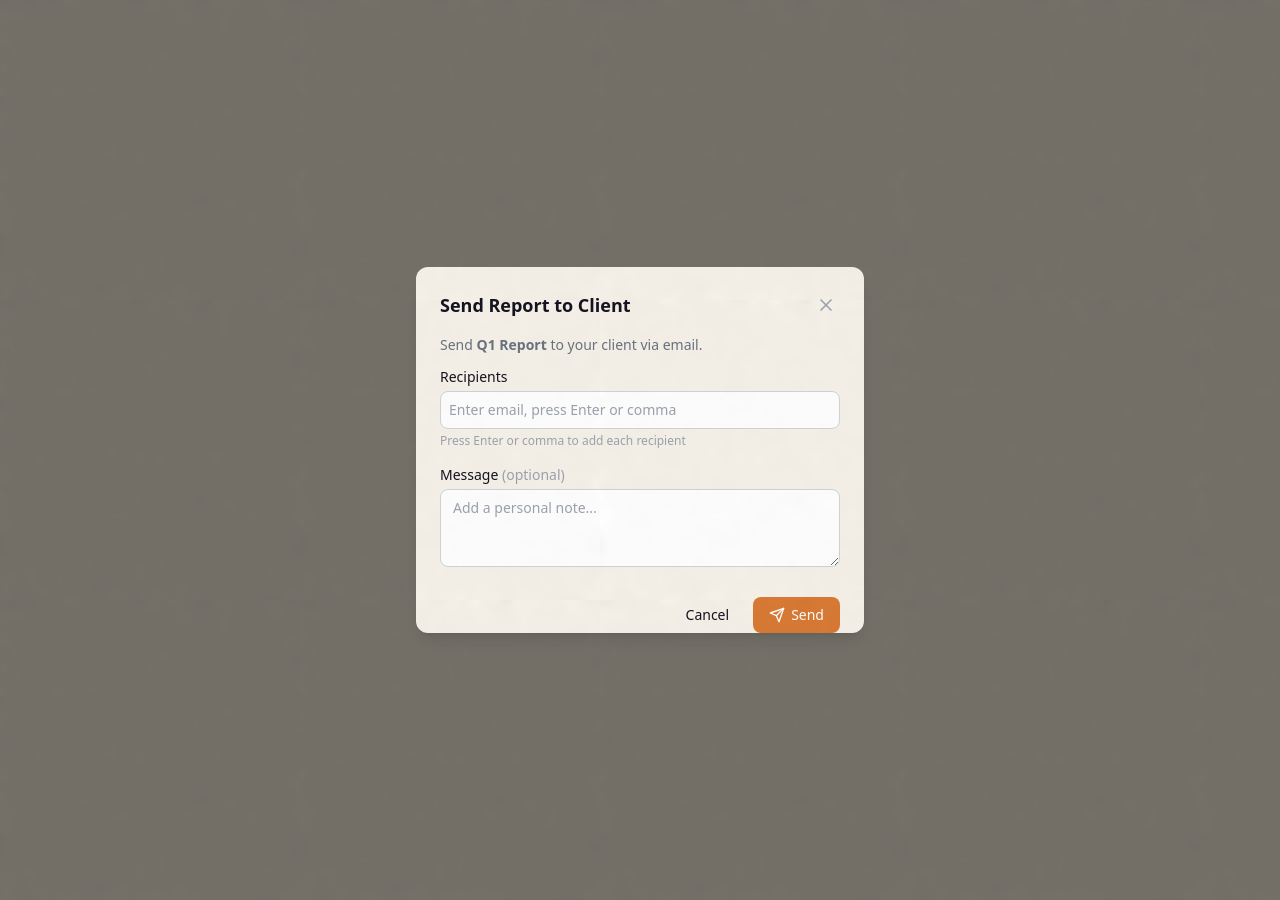
Test case: SendToClientModal cancel flow › clears entered state and closes when Cancel is clicked
Type "a@test.com" into the field with placeholder "Enter email, press Enter or comma". click: x=640, y=410
box: x1=449 y1=400 x2=831 y2=420
Then press Enter
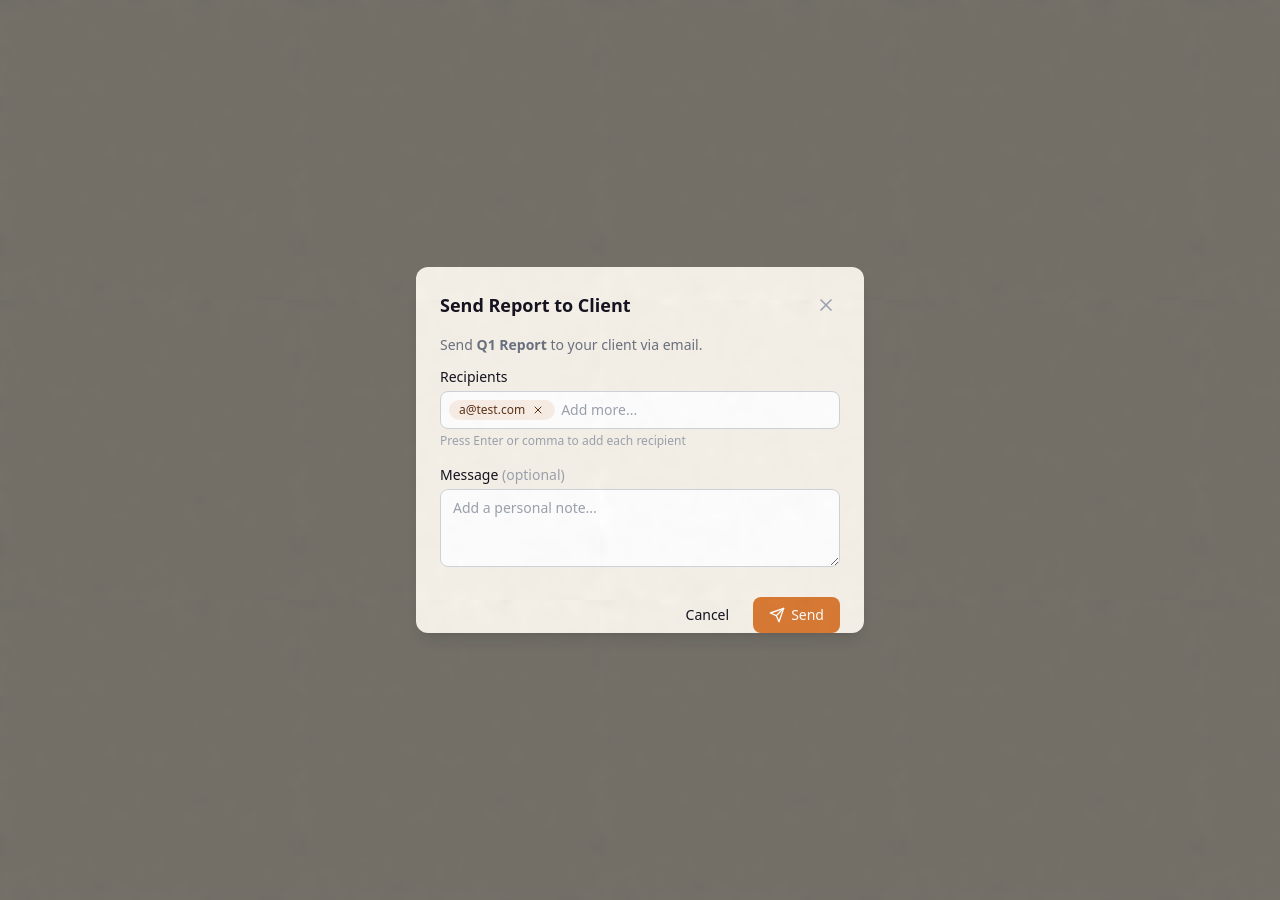
Type "hello" into the text box with placeholder "Add a personal note...". click: x=640, y=528
box: x1=440 y1=489 x2=840 y2=567
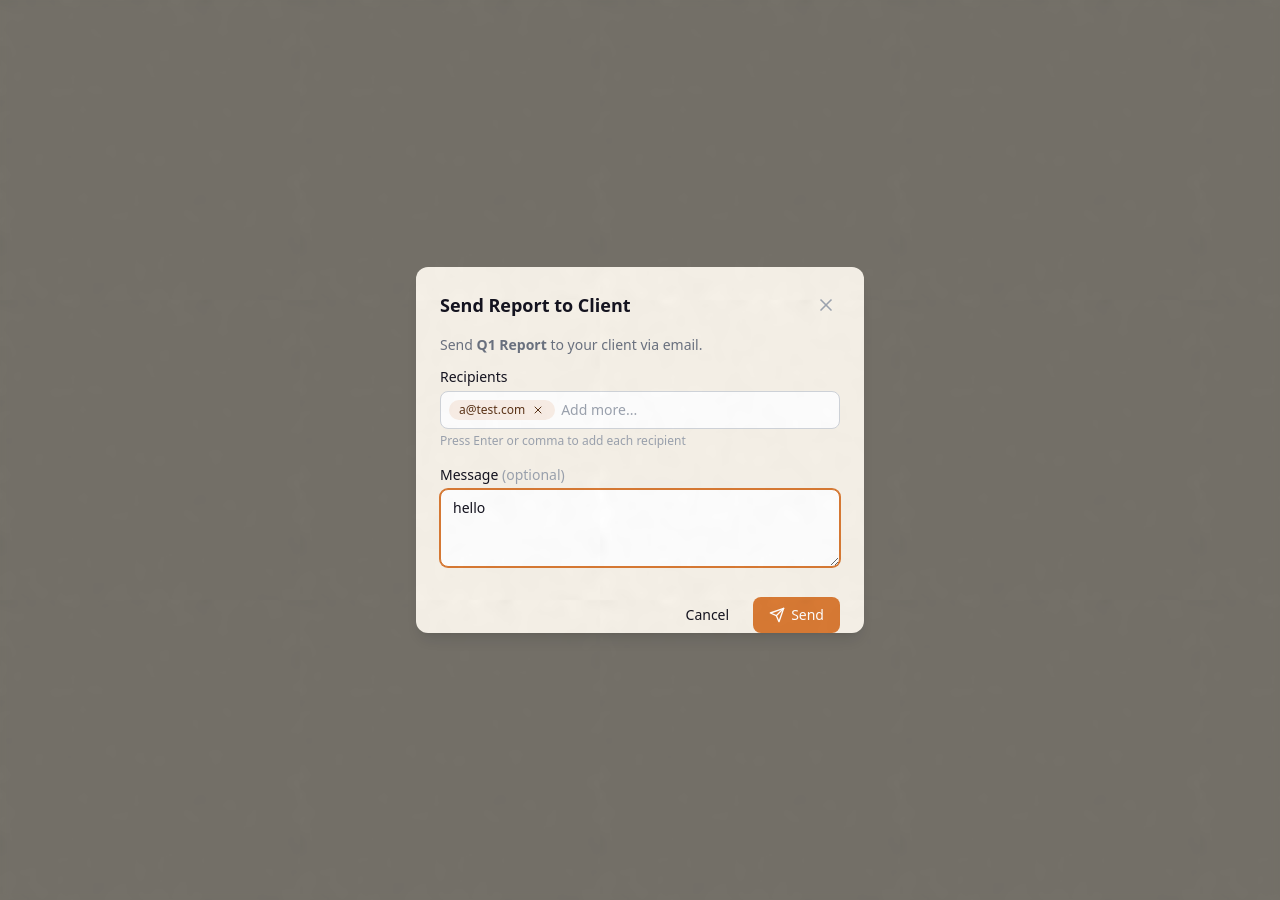
Click the button "Cancel". click: x=707, y=615
box: x1=670 y1=597 x2=745 y2=633
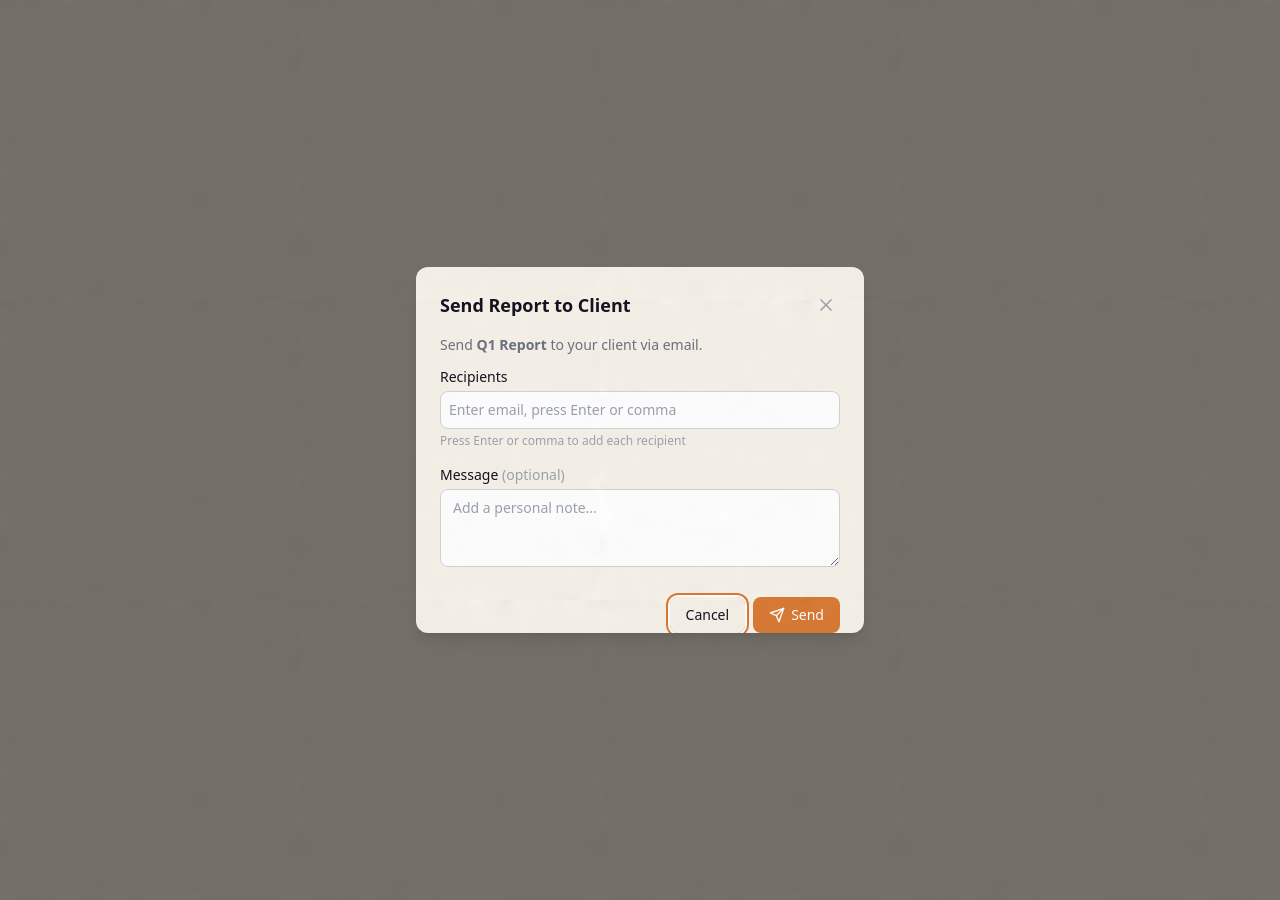
Now the text "a@test.com" is gone
